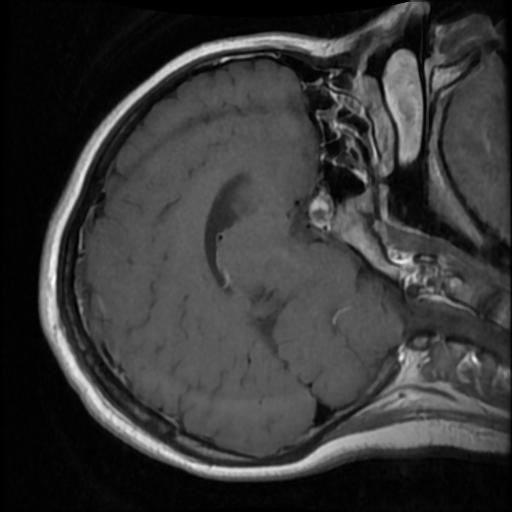pituitary tumour: (308, 189, 334, 229)
